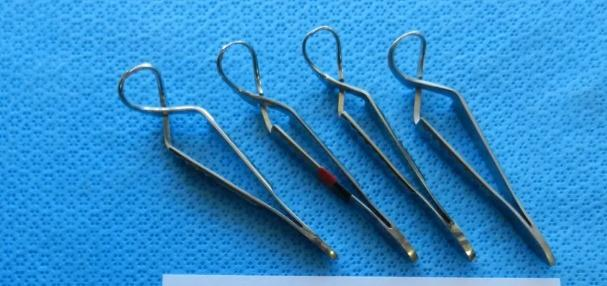Jones Towel Clamp: (210, 41, 419, 267), (108, 64, 338, 264), (295, 24, 480, 264), (383, 29, 567, 263)
